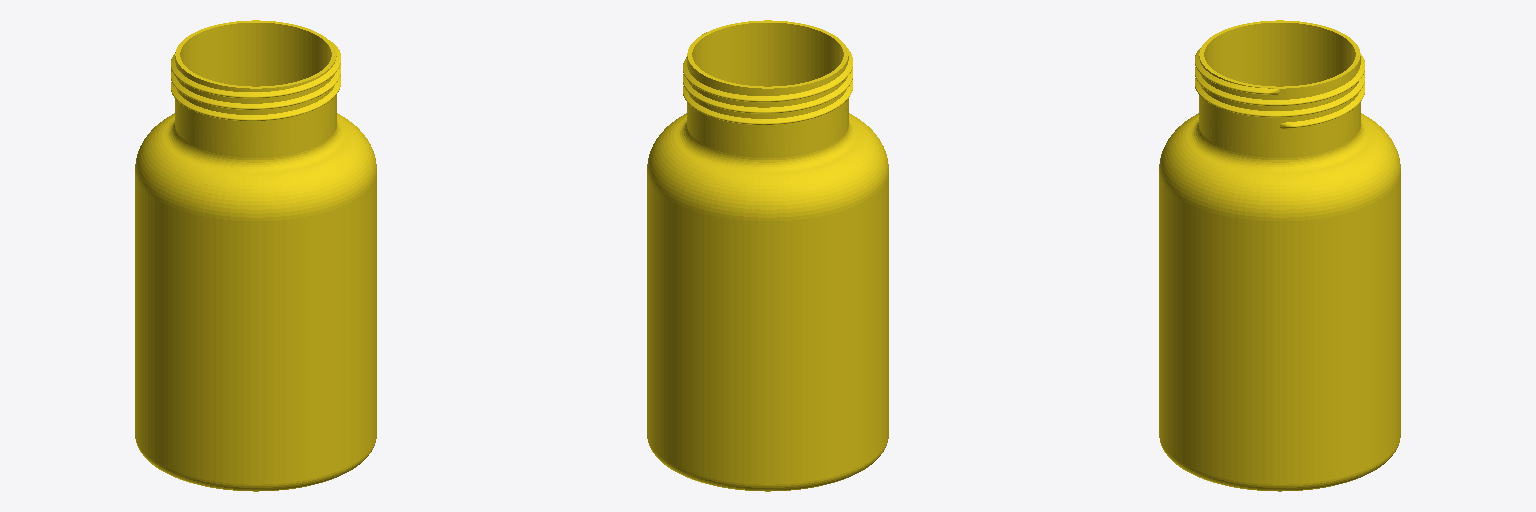
robot.urdf — cb_bottle2:
<?xml version="1.0"?>
<!-- ContactBench bottle / cap. Generated by FoundationTouch tools/contactbench/bottle_tasks.py -->
<robot name="cb_bottle2">
  <material name="c"><color rgba="0.95 0.85 0.15 1.0"/></material>
  <link name="receptive">
    <visual><origin xyz="0 0 0" rpy="0 0 0"/><geometry><mesh filename="bottle2.obj" scale="1 1 1"/></geometry><material name="c"/></visual>
    <collision><origin xyz="0 0 0" rpy="0 0 0"/><geometry><mesh filename="coll_00.obj" scale="1 1 1"/></geometry></collision>
    <collision><origin xyz="0 0 0" rpy="0 0 0"/><geometry><mesh filename="coll_01.obj" scale="1 1 1"/></geometry></collision>
    <collision><origin xyz="0 0 0" rpy="0 0 0"/><geometry><mesh filename="coll_02.obj" scale="1 1 1"/></geometry></collision>
    <collision><origin xyz="0 0 0" rpy="0 0 0"/><geometry><mesh filename="coll_03.obj" scale="1 1 1"/></geometry></collision>
    <collision><origin xyz="0 0 0" rpy="0 0 0"/><geometry><mesh filename="coll_04.obj" scale="1 1 1"/></geometry></collision>
    <collision><origin xyz="0 0 0" rpy="0 0 0"/><geometry><mesh filename="coll_05.obj" scale="1 1 1"/></geometry></collision>
    <collision><origin xyz="0 0 0" rpy="0 0 0"/><geometry><mesh filename="coll_06.obj" scale="1 1 1"/></geometry></collision>
    <collision><origin xyz="0 0 0" rpy="0 0 0"/><geometry><mesh filename="coll_07.obj" scale="1 1 1"/></geometry></collision>
  </link>
</robot>

--- Render facts (derived) ---
3 views of the same robot in one strip: view 1: azimuth 30°, elevation 25°; view 2: azimuth 150°, elevation 25°; view 3: azimuth 270°, elevation 25° (orthographic).
Model cb_bottle2 with 1 links and 0 joints (none), rooted at receptive, posed all joints at 0.
Visible links, largest first — view 1: receptive; view 2: receptive; view 3: receptive.
Link boxes in pixels (x1,y1,x2,y2): receptive: (135,20,376,491); receptive: (647,20,888,491); receptive: (1159,20,1400,491).
Size in the robot's own frame: 0.06 by 0.06 by 0.1067 metres.
1 mesh visuals loaded from 1 distinct referenced files (1 OBJ).
